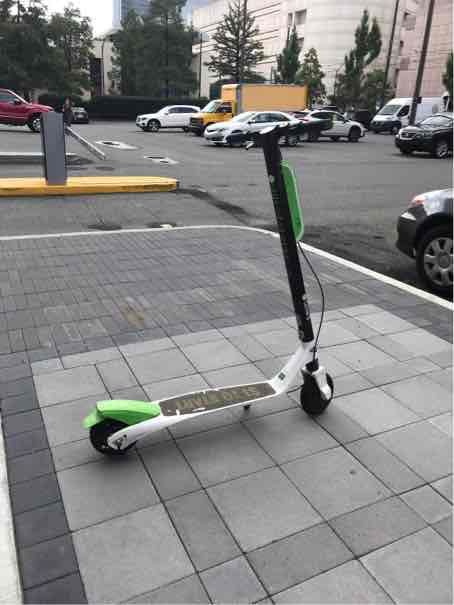scooter: (124, 83, 454, 340)
